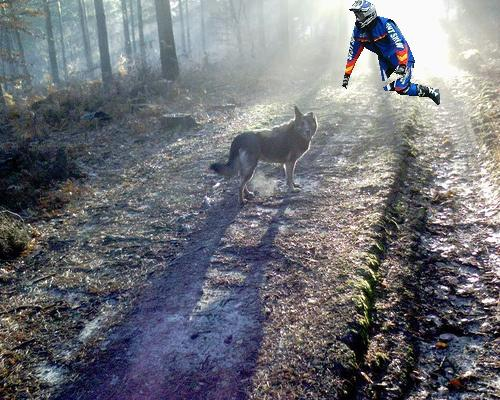tampered: (343, 1, 440, 105)
